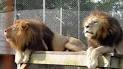lion: (5, 14, 80, 69), (83, 12, 123, 65)
